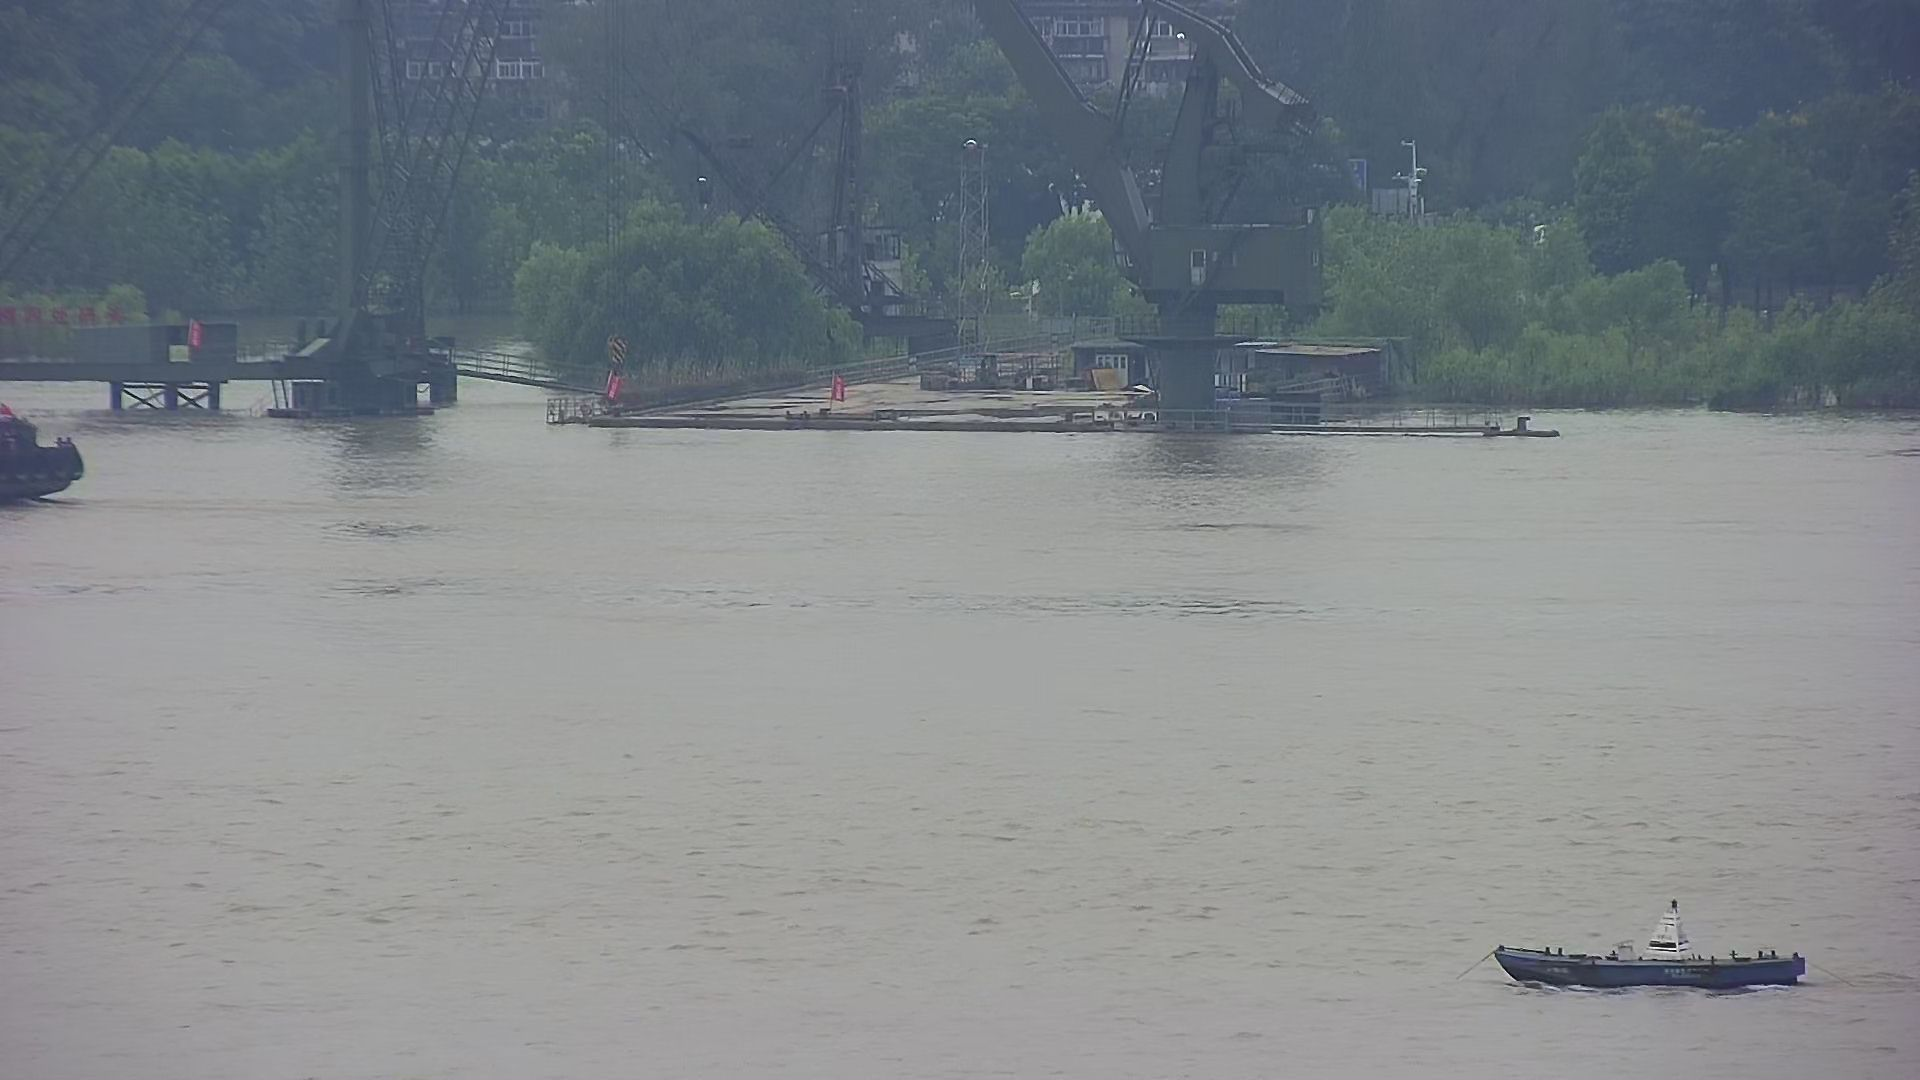boat: (1476, 880, 1820, 1004)
platform: (1, 1, 498, 425)
